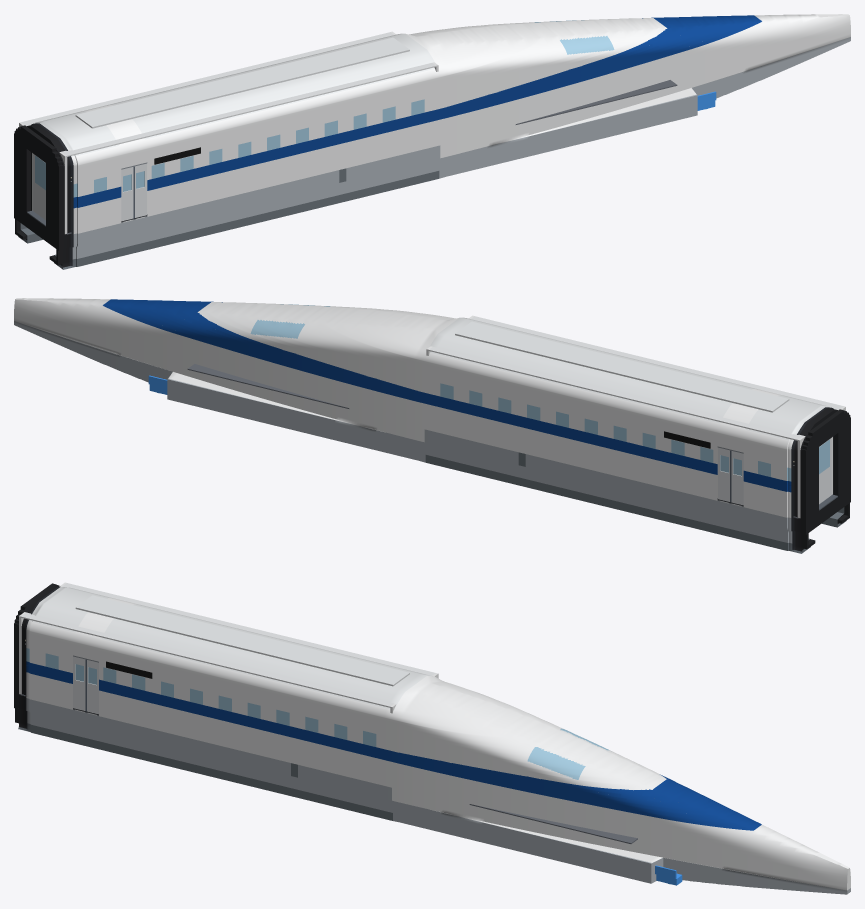
File: l0_front.obj
3 renders of one model, top to bottom at view 1: azimuth 30°, elevation 25°; view 2: azimuth 150°, elevation 25°; view 3: azimuth 330°, elevation 25°, orthographic.
Parts seen in each view (by area): view 1: SHELL, SHELL_roof, SHELL_diaphragm, SHELL_ceiling, CONNECTING_DOOR_1_CG_CR_TOGGLE_TL_0.98_Z, EXTERNAL_DOOR_3_CG_DR1_TOGGLE_TL_-0.39_X, SHELL_floor, EXTERNAL_DOOR_4_CG_DR1_TOGGLE_TL_0.39_X; view 2: SHELL, SHELL_roof, SHELL_diaphragm, SHELL_ceiling, CONNECTING_DOOR_1_CG_CR_TOGGLE_TL_0.98_Z, EXTERNAL_DOOR_6_CG_DL1_TOGGLE_TL_-0.39_X, SHELL_floor, EXTERNAL_DOOR_7_CG_DL1_TOGGLE_TL_0.39_X; view 3: SHELL, SHELL_roof, SHELL_ceiling, EXTERNAL_DOOR_3_CG_DR1_TOGGLE_TL_-0.39_X, SHELL_floor, EXTERNAL_DOOR_4_CG_DR1_TOGGLE_TL_0.39_X.
Part boxes in pixels (x1,y1,x2,y2): SHELL: (18, 14, 850, 269); SHELL_roof: (75, 37, 409, 128); SHELL_diaphragm: (14, 125, 63, 265); SHELL_ceiling: (21, 32, 436, 156); CONNECTING_DOOR_1_CG_CR_TOGGLE_TL_0.98_Z: (33, 154, 45, 220); EXTERNAL_DOOR_3_CG_DR1_TOGGLE_TL_-0.39_X: (121, 166, 134, 221); SHELL_floor: (66, 80, 676, 234); EXTERNAL_DOOR_4_CG_DR1_TOGGLE_TL_0.39_X: (134, 163, 146, 217); SHELL: (14, 298, 846, 553); SHELL_roof: (455, 321, 789, 412); SHELL_diaphragm: (801, 409, 850, 549); SHELL_ceiling: (428, 316, 843, 440); CONNECTING_DOOR_1_CG_CR_TOGGLE_TL_0.98_Z: (819, 438, 831, 504); EXTERNAL_DOOR_6_CG_DL1_TOGGLE_TL_-0.39_X: (730, 450, 743, 505); SHELL_floor: (188, 364, 797, 517); EXTERNAL_DOOR_7_CG_DL1_TOGGLE_TL_0.39_X: (718, 447, 730, 501); SHELL: (18, 585, 850, 894); SHELL_roof: (75, 595, 409, 686); SHELL_ceiling: (20, 583, 435, 707); EXTERNAL_DOOR_3_CG_DR1_TOGGLE_TL_-0.39_X: (73, 656, 86, 711); SHELL_floor: (21, 694, 637, 843); EXTERNAL_DOOR_4_CG_DR1_TOGGLE_TL_0.39_X: (86, 660, 98, 714).
Bounding box in the file's own units: 28.16 × 4.03 × 2.92.
1 material, 1 textured.
